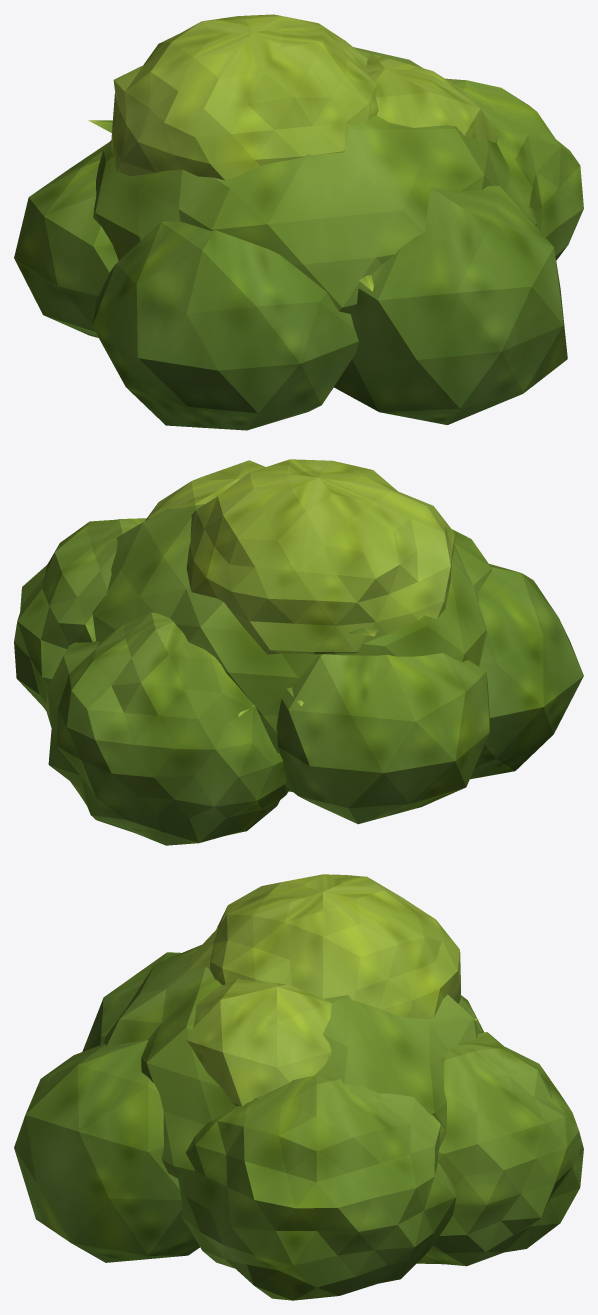
Rendered from buisson_2.glb.
The picture shows the model from 3 angles, top to bottom: view 1: azimuth 30°, elevation 25°; view 2: azimuth 150°, elevation 25°; view 3: azimuth 270°, elevation 25°; orthographic projection. The views are drawn at different scales.
Parts seen in each view (by area): view 1: buisson_2; view 2: buisson_2; view 3: buisson_2.
Part boxes in pixels (<box>): buisson_2: <box>14,14,583,430</box>; buisson_2: <box>14,459,583,845</box>; buisson_2: <box>14,874,583,1300</box>.
Bounding box in the file's own units: 1.56 × 0.9853 × 1.6.
Materials: 3 (3 with a texture image).
